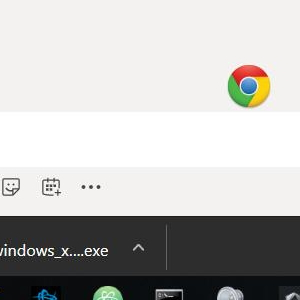chrome: (227, 64, 271, 108)
